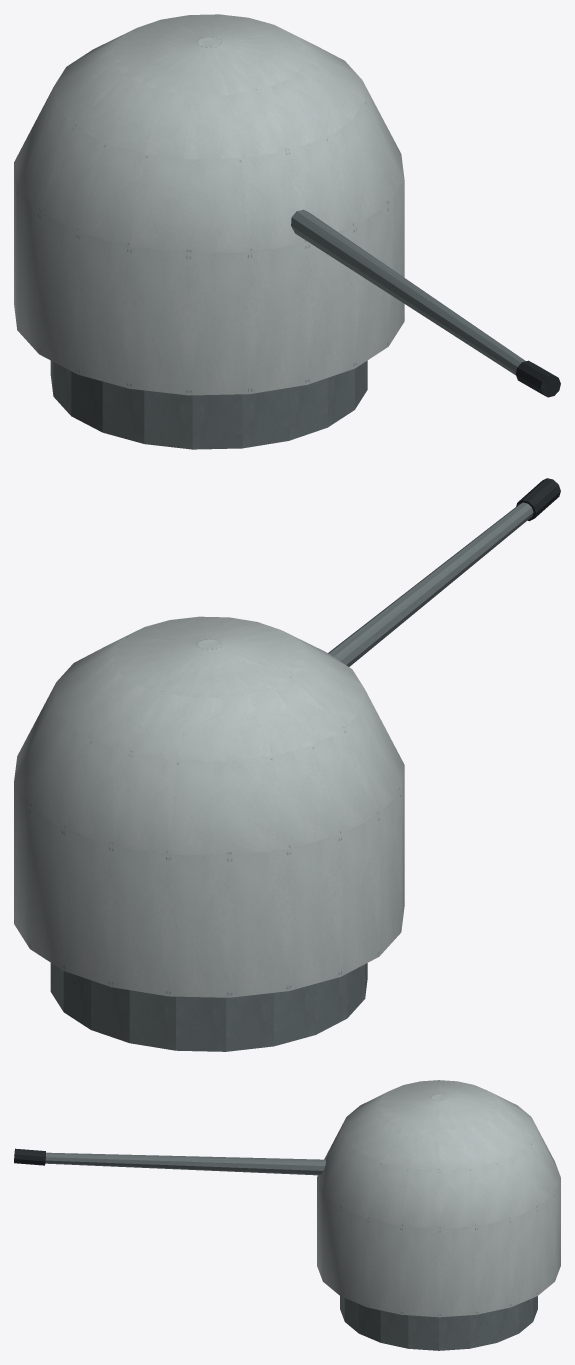
File: mount_gepard_artillery.glb
3 renders of one model, top to bottom at view 1: azimuth 30°, elevation 25°; view 2: azimuth 150°, elevation 25°; view 3: azimuth 270°, elevation 25°, orthographic. The views are drawn at different scales.
Visible parts, largest first — view 1: MESH_GEPARD_TEMPLATE_artillery.006; view 2: MESH_GEPARD_TEMPLATE_artillery.006; view 3: MESH_GEPARD_TEMPLATE_artillery.006.
Boxes of the visible parts, box(x1,y1,x2,y2) form: MESH_GEPARD_TEMPLATE_artillery.006: box(14, 14, 560, 449); MESH_GEPARD_TEMPLATE_artillery.006: box(14, 478, 560, 1051); MESH_GEPARD_TEMPLATE_artillery.006: box(14, 1080, 560, 1350).
Size of the model in its own units: 4.79 by 4.58 by 10.74.
1 material, 1 textured.
